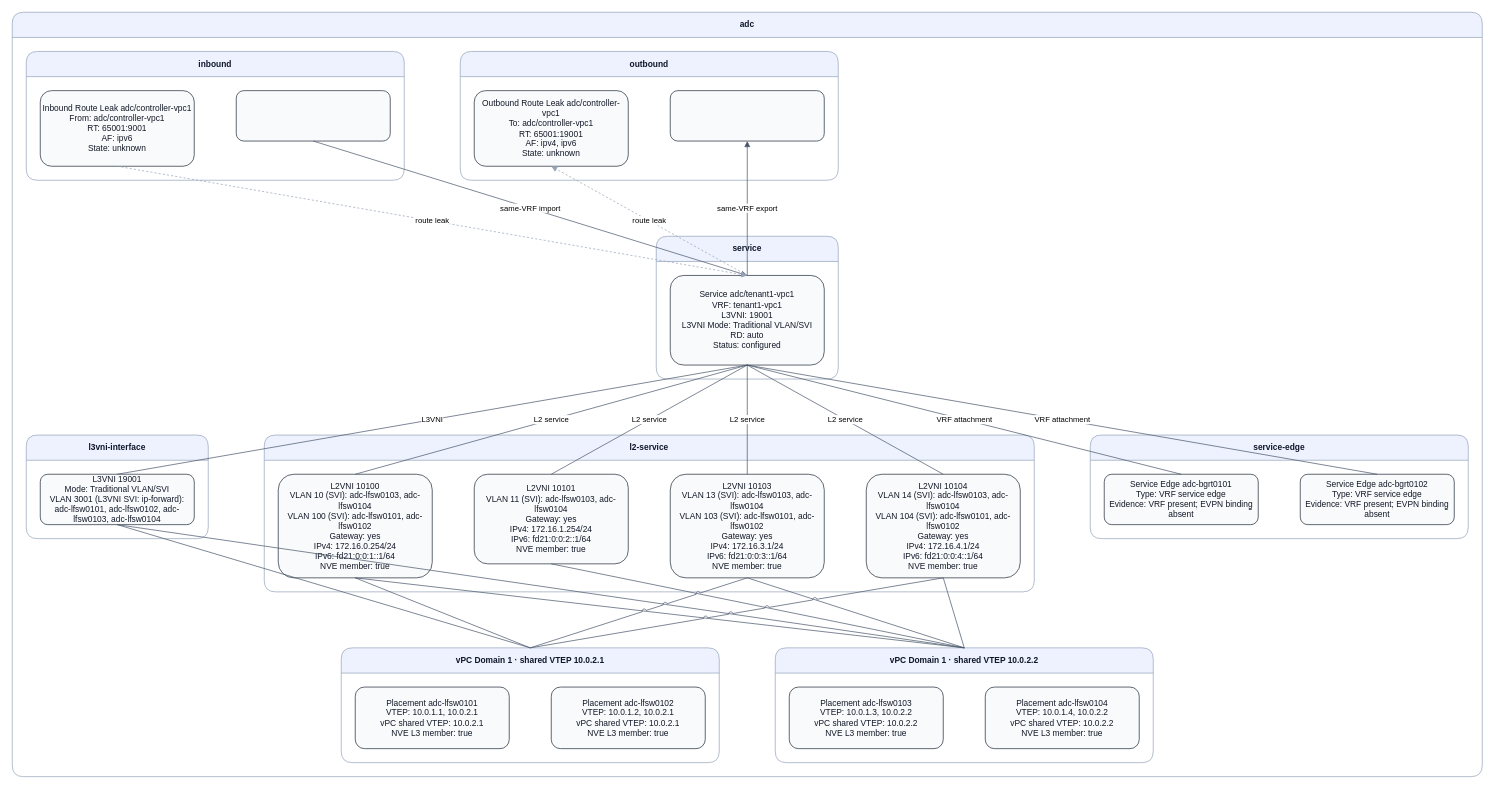
Some shapes in this 1495 by 789 pixel diagram are drawn without their labels. The centre of each missing label's shape, as x and y in pixels:
Same-VRF Export RT 65001-19001 RT: 65001:19001 (auto) Purpose: EVPN service: pixel 747 115
Same-VRF Import RT 65001-19001 RT: 65001:19001 (auto) Purpose: EVPN service: pixel 313 115
